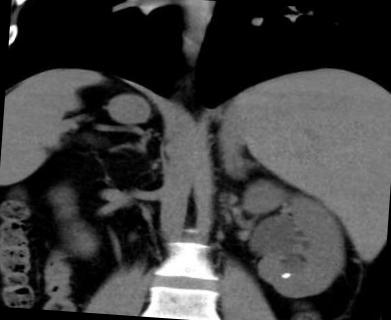Tas_Var: (278, 268, 294, 286)
